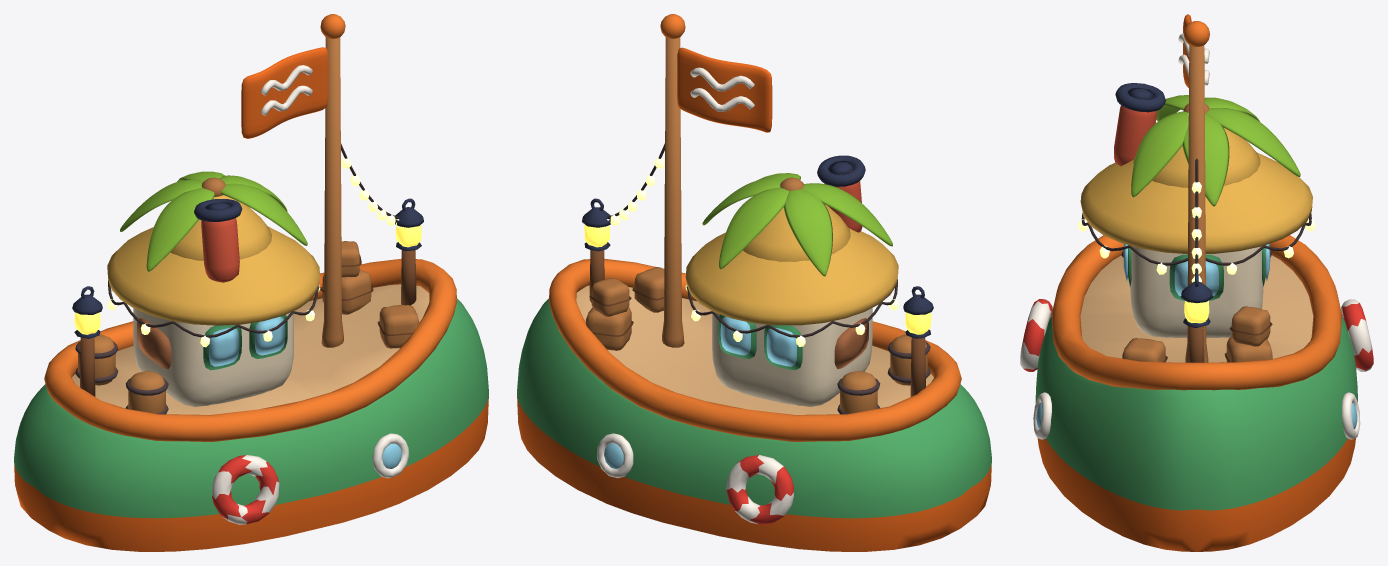
File: arcilla.glb
3 views of the same model, side by side, from view 1: azimuth 30°, elevation 25°; view 2: azimuth 150°, elevation 25°; view 3: azimuth 270°, elevation 25° (orthographic). The views are drawn at different scales.
Visible parts, largest first — view 1: hull, roll, roof, cabin, palm, mast, flag, windows, crates, life_rings, chimney, barrels (+6 smaller); view 2: hull, roll, roof, palm, cabin, mast, flag, crates, windows, life_rings, barrels, lanterns (+6 smaller); view 3: hull, roof, roll, palm, cabin, mast, crates, life_rings, chimney, windows, portholes, lanterns (+4 smaller).
Boxes of the visible parts, x1,y1,x2,y2 form: hull: (14,284,488,551); roll: (44,258,456,441); roof: (107,195,320,325); cabin: (133,308,293,406); palm: (120,171,307,271); mast: (321,37,343,347); flag: (241,47,328,138); windows: (137,314,287,370); crates: (320,241,419,348); life_rings: (212,455,279,524); chimney: (194,199,242,282); barrels: (75,334,168,414); hull: (517,285,991,551); roll: (549,258,961,441); roof: (685,204,898,325); palm: (702,173,892,276); cabin: (712,308,872,406); mast: (662,37,684,347); flag: (677,47,772,132); crates: (586,267,664,350); windows: (718,314,868,370); life_rings: (726,455,793,524); barrels: (837,334,930,414); lanterns: (582,198,933,338); hull: (1035,255,1357,551); roof: (1080,127,1312,254); roll: (1051,235,1341,390); palm: (1131,95,1300,206); cabin: (1130,246,1263,337); mast: (1185,45,1208,362); crates: (1122,306,1272,362); life_rings: (1020,299,1373,371); chimney: (1114,83,1165,165); windows: (1123,243,1270,300); portholes: (1033,392,1360,439); lanterns: (1181,272,1212,327).
Size of the model in its own units: 1.93 by 1.82 by 1.27.
